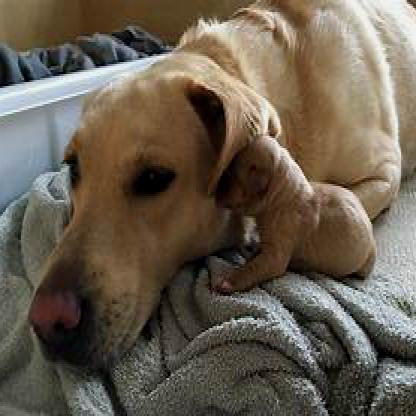dog: (29, 0, 414, 376), (217, 134, 376, 296)
